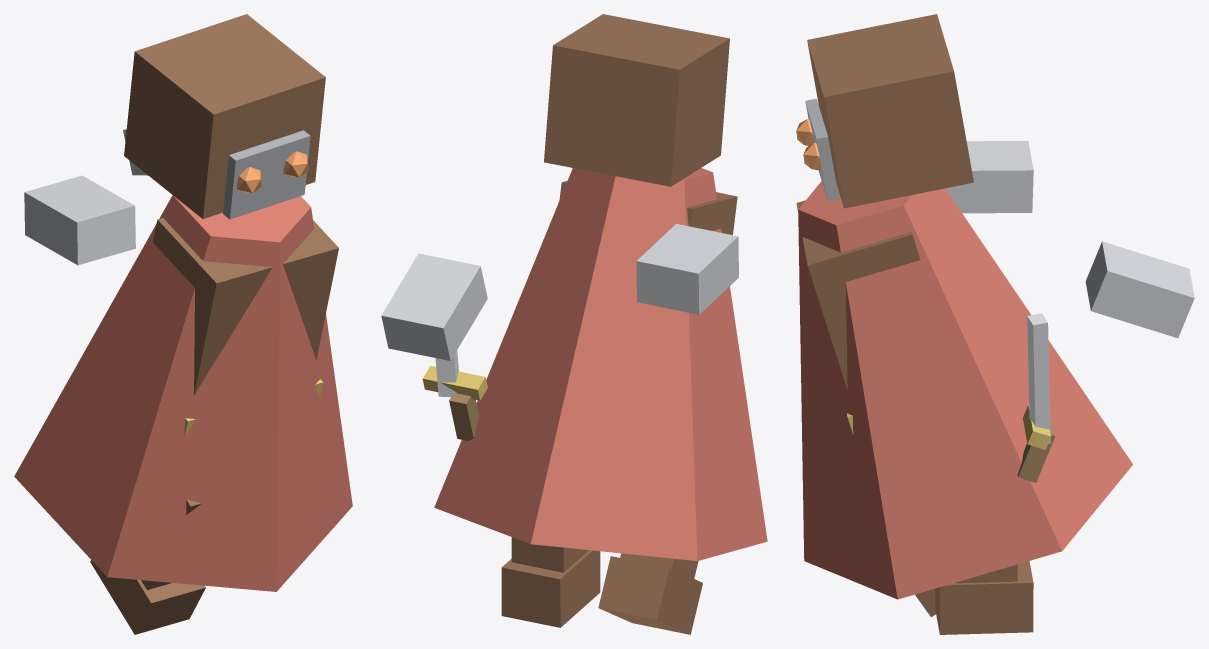
File: npcpose_raider_idle_03.glb
3 views of the same model, side by side, from view 1: azimuth 30°, elevation 25°; view 2: azimuth 150°, elevation 25°; view 3: azimuth 270°, elevation 25° (orthographic).
Visible parts, largest first — view 1: npcpose; view 2: npcpose; view 3: npcpose.
Boxes of the visible parts, x1,y1,x2,y2 form: npcpose: (14, 14, 352, 634); npcpose: (381, 14, 767, 634); npcpose: (796, 14, 1194, 634).
Bounding box in the file's own units: 0.8158 × 1.64 × 1.02.
